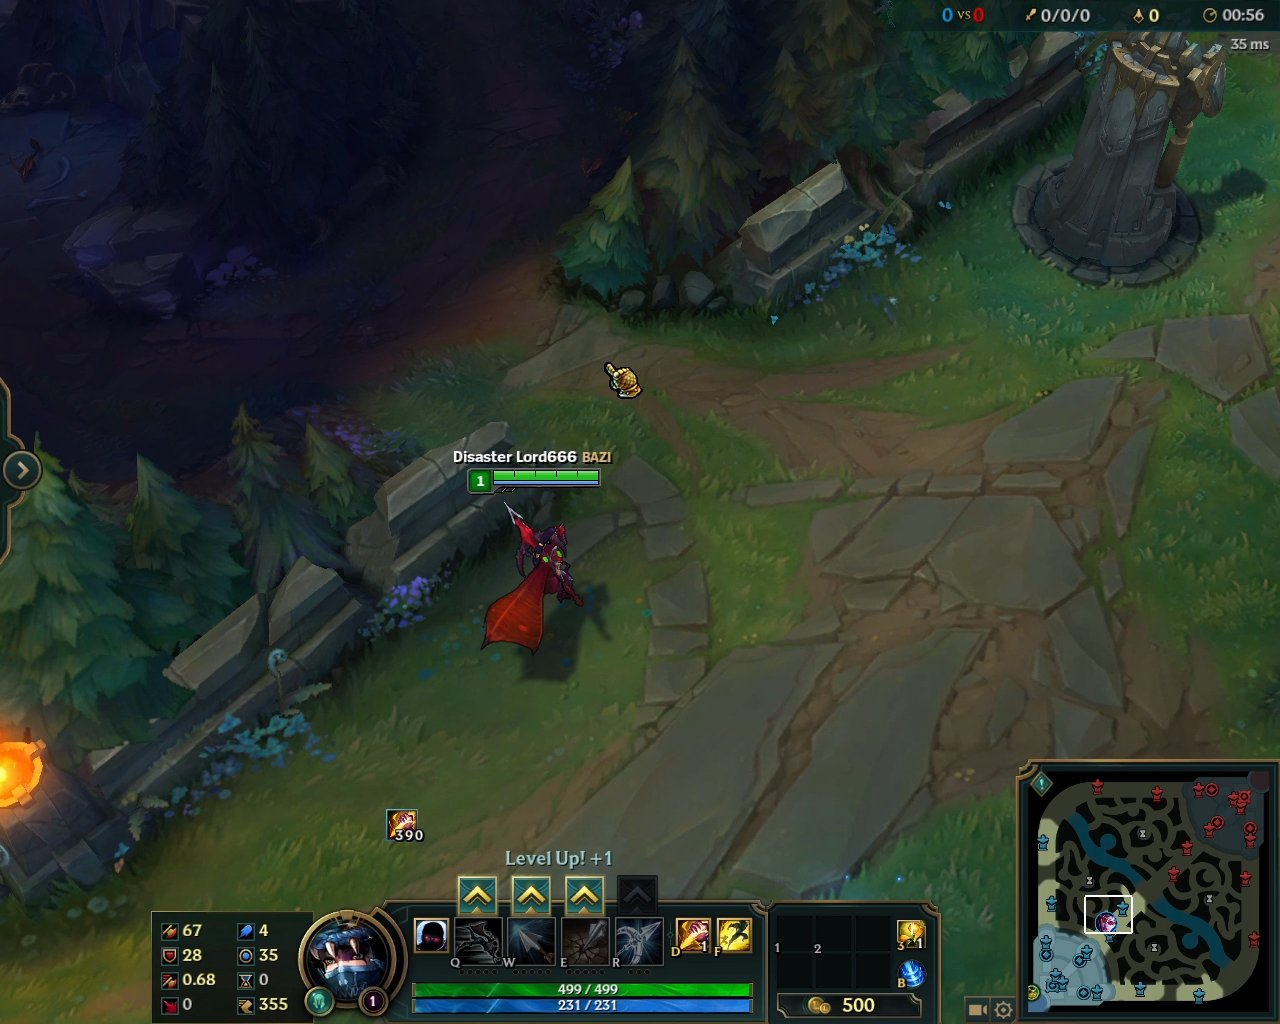Vayne: (478, 497, 595, 664)
